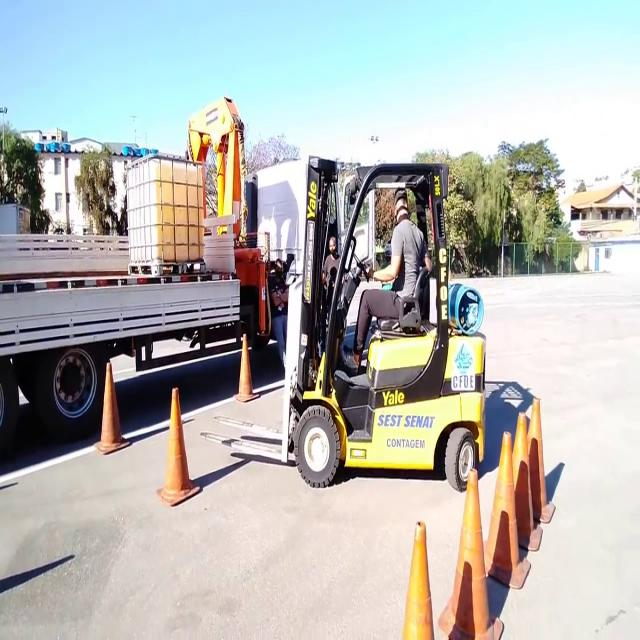Chariot elevateur: (282, 139, 492, 503)
